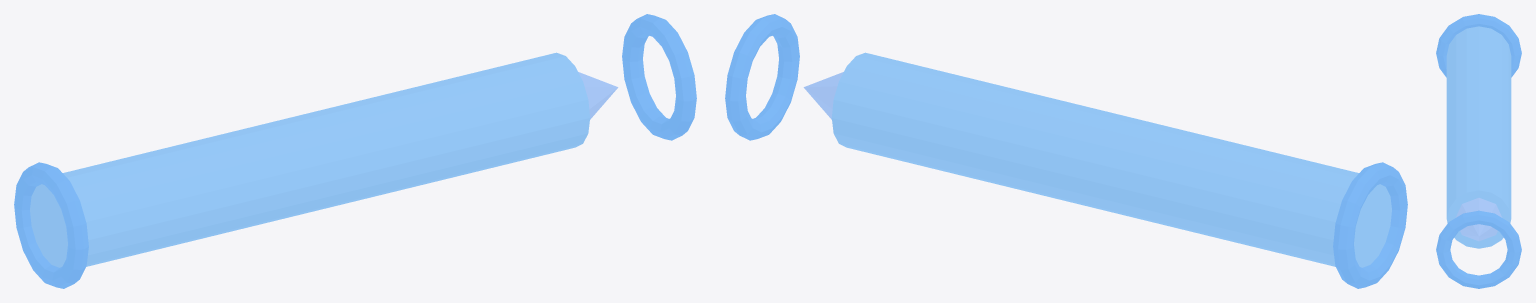
Rendered from hyperspace_marker.glb.
3 renders of one model, left to right at view 1: azimuth 30°, elevation 25°; view 2: azimuth 150°, elevation 25°; view 3: azimuth 270°, elevation 25°, orthographic. The views are drawn at different scales.
Visible parts, largest first — view 1: Hyperspace_OuterGlow, Hyperspace_Exit, Hyperspace_Entry, Hyperspace_Arrow_End; view 2: Hyperspace_OuterGlow, Hyperspace_Exit, Hyperspace_Entry, Hyperspace_Arrow_End; view 3: Hyperspace_OuterGlow, Hyperspace_Exit, Hyperspace_Entry, Hyperspace_Arrow_End.
Part boxes in pixels (bbox=[...]): Hyperspace_OuterGlow: bbox=[30, 52, 590, 267]; Hyperspace_Exit: bbox=[622, 14, 696, 140]; Hyperspace_Entry: bbox=[14, 162, 88, 288]; Hyperspace_Arrow_End: bbox=[578, 72, 618, 119]; Hyperspace_OuterGlow: bbox=[831, 52, 1391, 267]; Hyperspace_Exit: bbox=[725, 14, 799, 140]; Hyperspace_Entry: bbox=[1333, 162, 1407, 288]; Hyperspace_Arrow_End: bbox=[803, 72, 843, 119]; Hyperspace_OuterGlow: bbox=[1446, 26, 1511, 248]; Hyperspace_Exit: bbox=[1436, 210, 1521, 288]; Hyperspace_Entry: bbox=[1436, 14, 1521, 77]; Hyperspace_Arrow_End: bbox=[1455, 198, 1502, 241].
Size of the model in its own units: 2.68 by 0.48 by 0.48.
